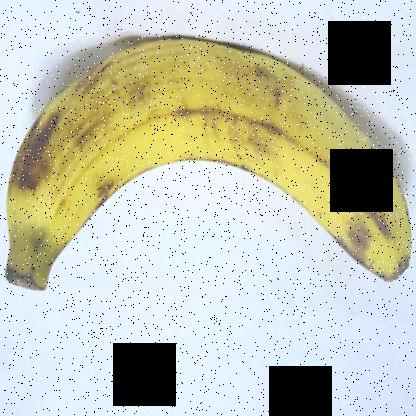ripe: (4, 27, 415, 307)
